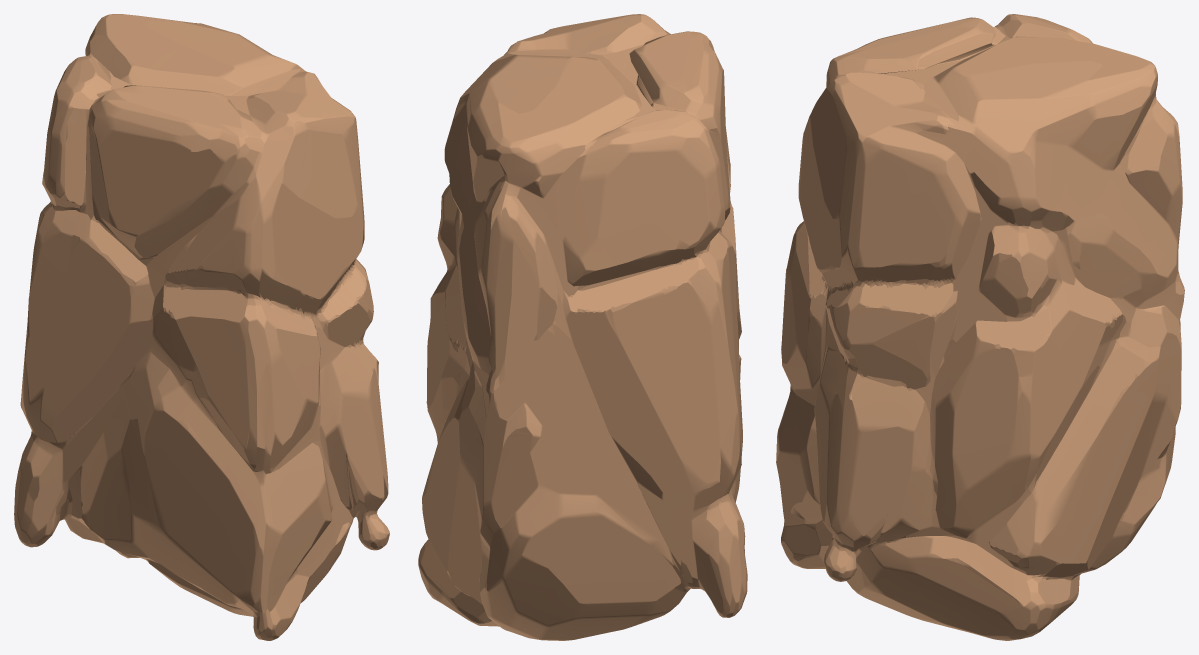
The picture shows the model from 3 angles, left to right: view 1: azimuth 30°, elevation 25°; view 2: azimuth 150°, elevation 25°; view 3: azimuth 270°, elevation 25°; orthographic projection. The views are drawn at different scales.
Parts seen in each view (by area): view 1: Mesh_84_LOD0; view 2: Mesh_84_LOD0; view 3: Mesh_84_LOD0.
Boxes of the visible parts, x1,y1,x2,y2 form: Mesh_84_LOD0: [14, 14, 389, 640]; Mesh_84_LOD0: [418, 14, 747, 640]; Mesh_84_LOD0: [776, 14, 1184, 640].
Size of what is drawn, in the model's own units: 1598 by 2632 by 1856.
